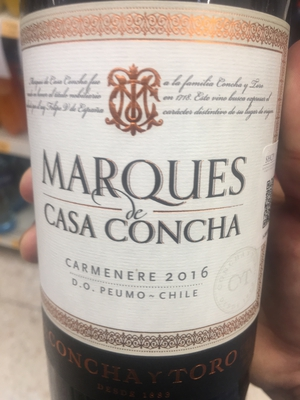marques de casa concha carmenere: (19, 7, 293, 400)
